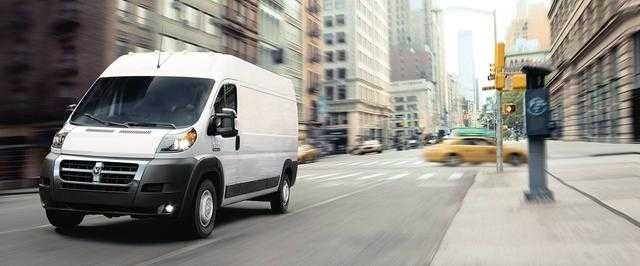van: (38, 49, 298, 239)
